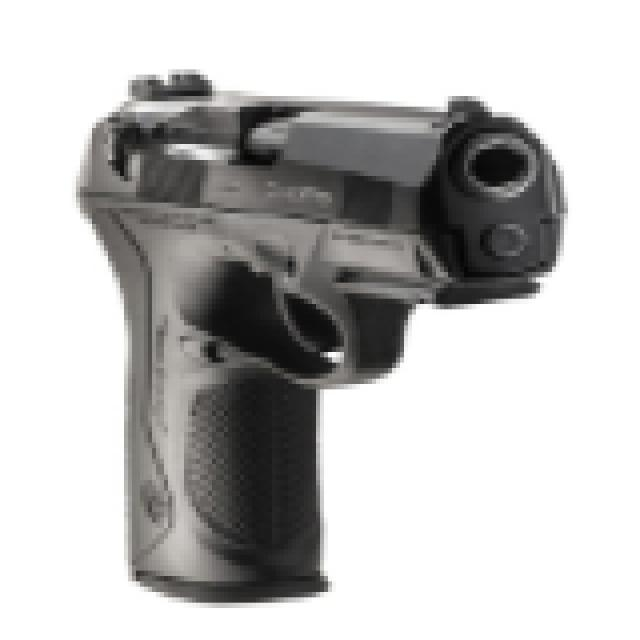Gun: (60, 60, 598, 608)
